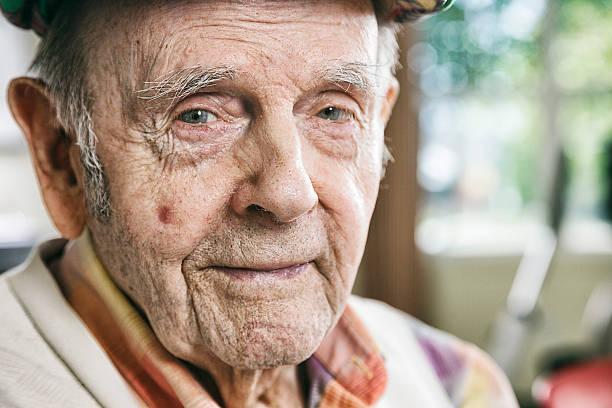Wrinkles: (304, 136, 354, 160), (243, 19, 340, 26), (150, 34, 166, 67), (180, 25, 257, 31), (211, 38, 261, 47), (193, 7, 244, 10)
